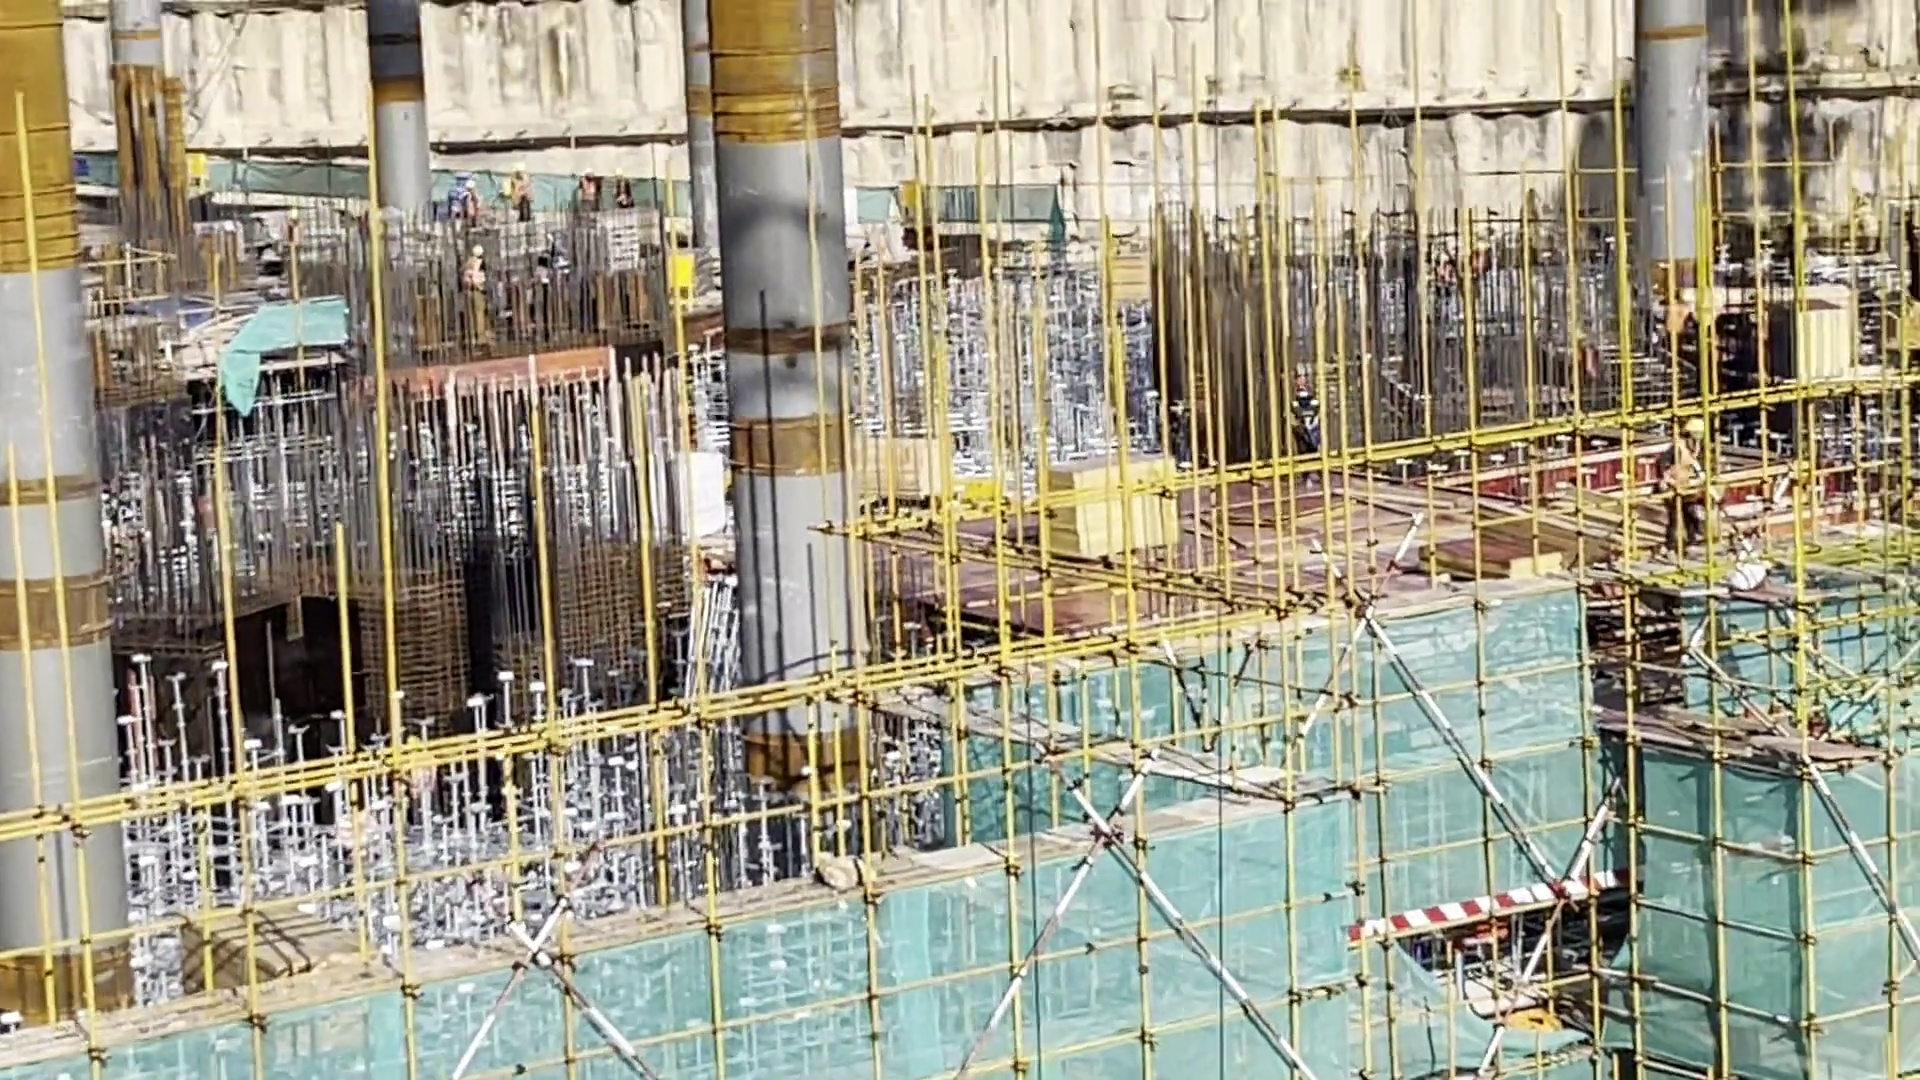helmet: (1688, 411, 1710, 439), (469, 241, 487, 261)
person: (1658, 422, 1715, 545), (1287, 380, 1325, 457), (460, 237, 491, 294), (573, 163, 602, 215), (457, 178, 483, 228), (612, 165, 638, 203), (502, 165, 526, 200)
